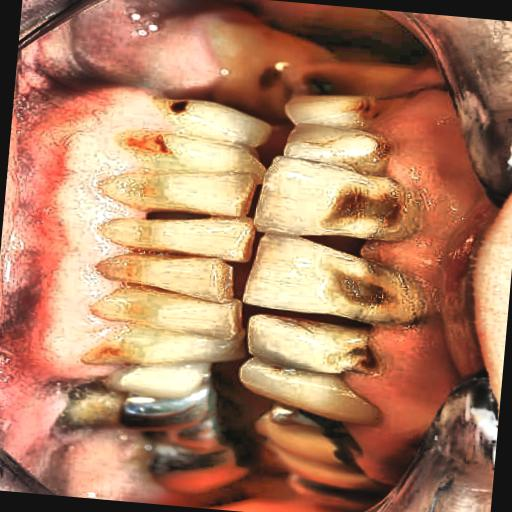Gingivitis: (338, 74, 499, 484), (4, 55, 145, 378), (33, 380, 192, 506), (97, 0, 231, 98)
